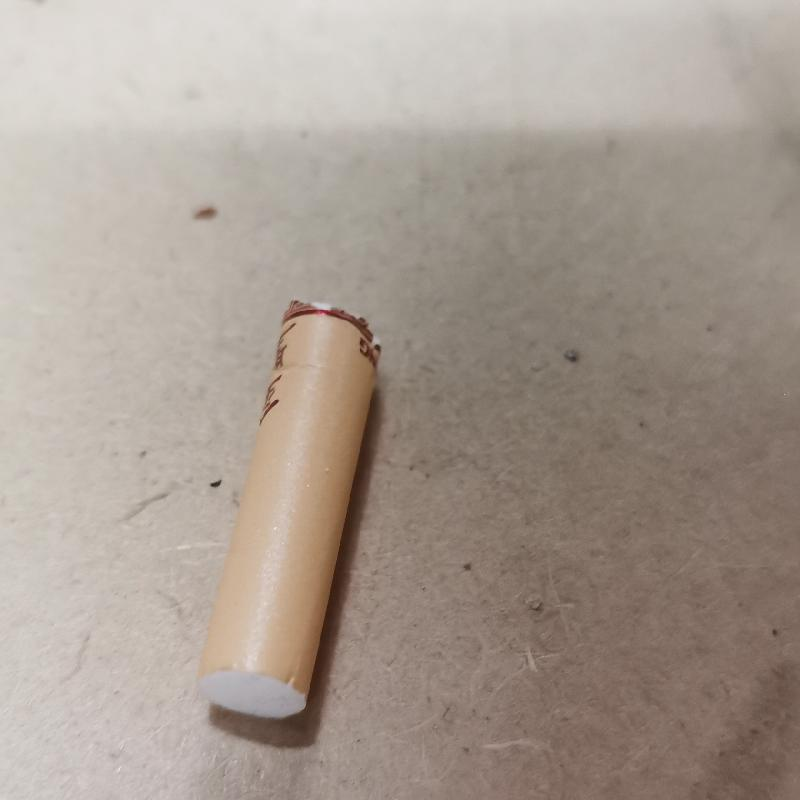cigarette: (192, 293, 386, 737)
